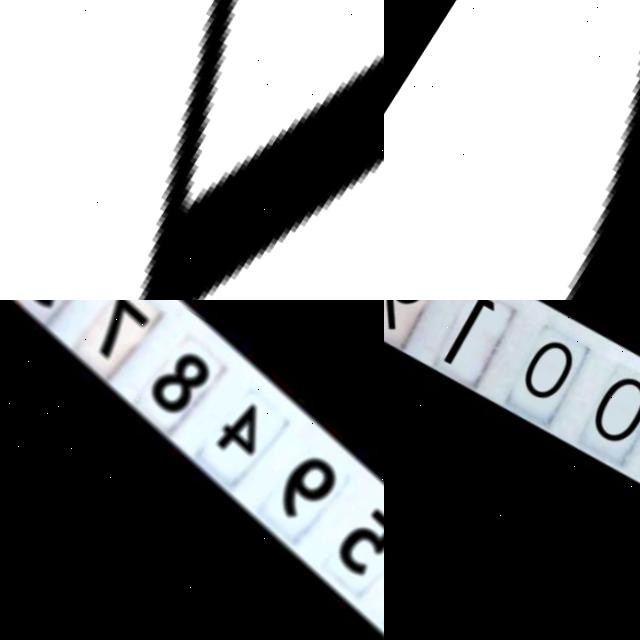0: (513, 316, 600, 413), (579, 348, 640, 458)
1: (435, 300, 529, 382)
4: (204, 375, 300, 481)
5: (324, 479, 384, 594), (10, 300, 110, 328)
7: (394, 0, 640, 300), (70, 300, 171, 379)
8: (135, 321, 240, 436)
9: (260, 423, 369, 542), (384, 300, 450, 344)
V: (0, 0, 384, 300)
